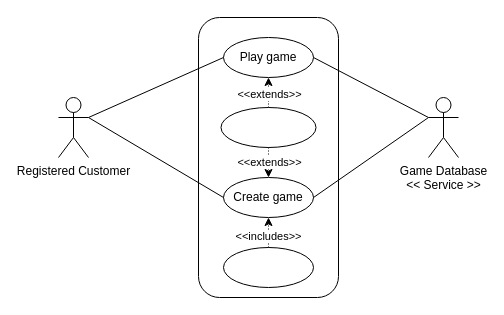
Some shapes in this 504 by 315 pixel diagram are drawn without their labels. Here are the shapes that lost their labels. From the top down, the centre of each, then its label:
At point 268,127: "Choose type".
At point 268,267: "Choose game enviroment".
